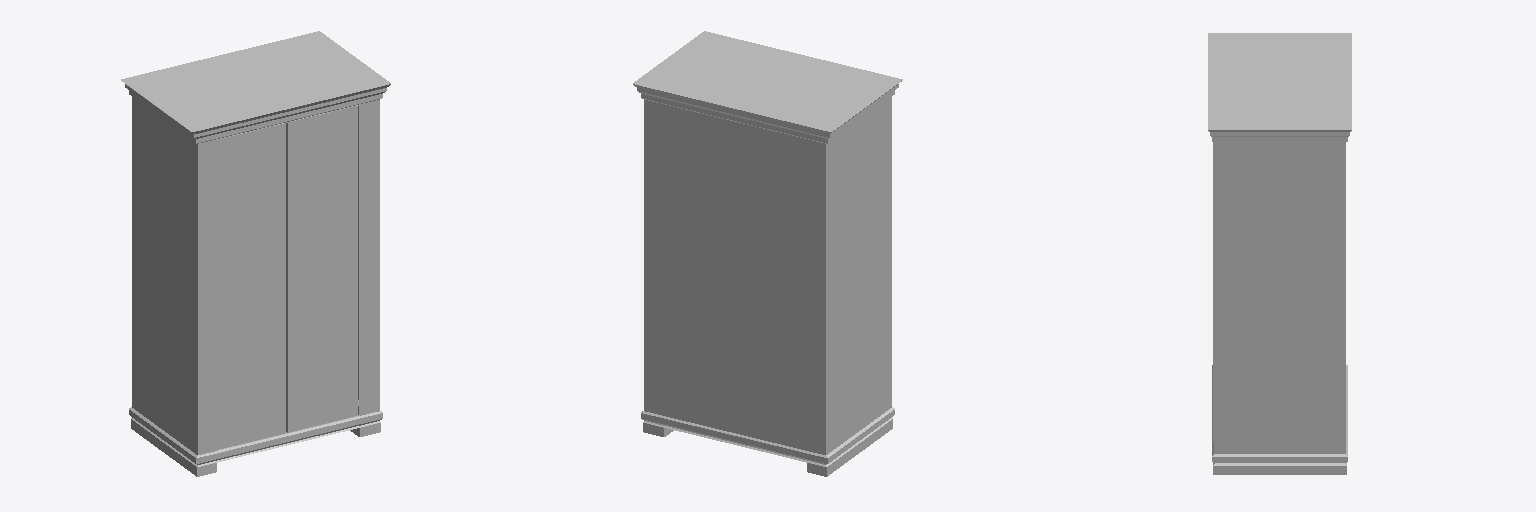
File: closet.obj
3 renders of one model, left to right at view 1: azimuth 30°, elevation 25°; view 2: azimuth 150°, elevation 25°; view 3: azimuth 270°, elevation 25°, orthographic.
Parts seen in each view (by area): view 1: Object_Cube.001, Cube.002_Cube.003, Cube.001_Cube.002; view 2: Object_Cube.001; view 3: Object_Cube.001.
Part boxes in pixels (x1,y1,x2,y2): Object_Cube.001: (121, 31, 390, 476); Cube.002_Cube.003: (286, 105, 357, 432); Cube.001_Cube.002: (215, 123, 285, 450); Object_Cube.001: (633, 31, 902, 476); Object_Cube.001: (1208, 33, 1351, 474).
Size of the model in its own units: 2.51 by 4.2 by 1.58.